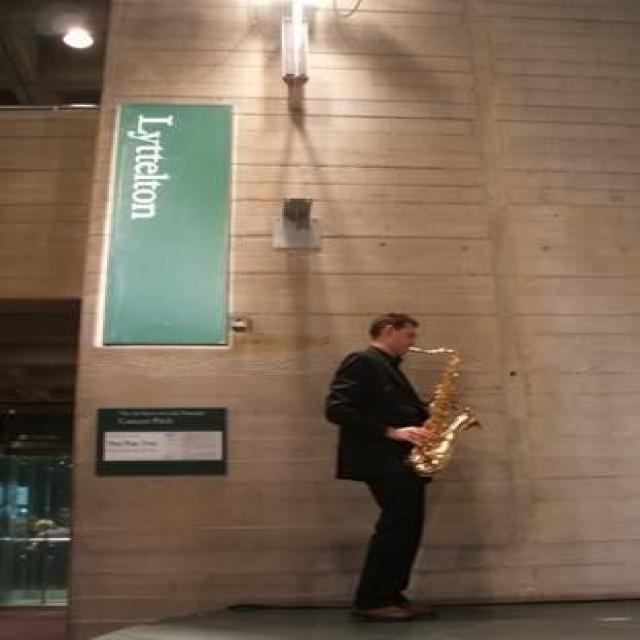saxophone: (405, 339, 487, 478)
